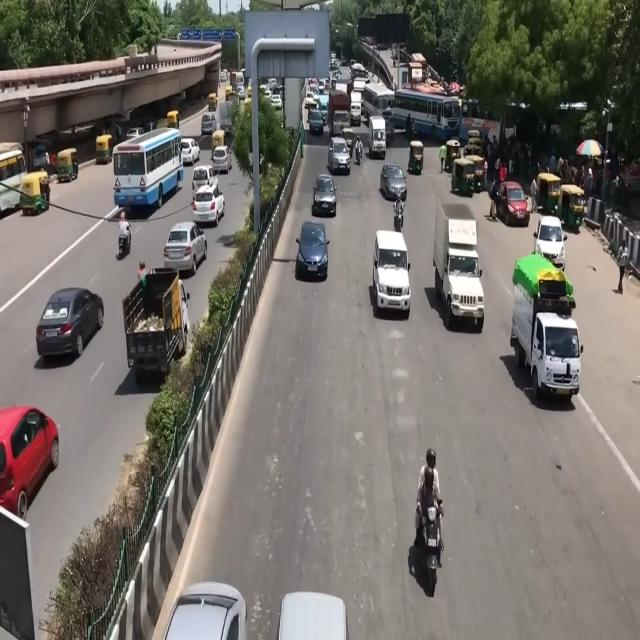auto: (558, 184, 586, 232), (20, 172, 50, 216), (535, 172, 561, 216), (367, 115, 386, 157), (56, 147, 78, 183), (408, 139, 424, 175), (95, 135, 113, 166), (460, 164, 476, 196), (472, 159, 487, 192), (341, 126, 355, 156), (446, 138, 462, 164), (442, 142, 452, 173), (208, 92, 218, 110)
bike-auto: (416, 492, 445, 590), (393, 203, 405, 233)
